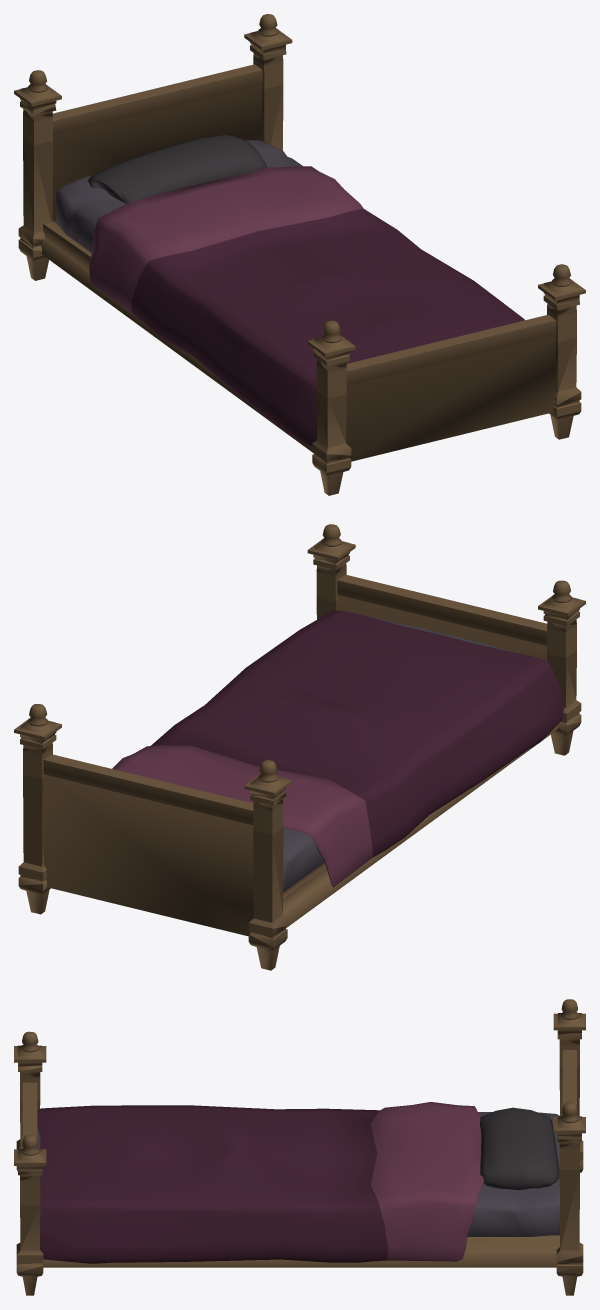
File: bed-twin.glb
The picture shows the model from 3 angles, top to bottom: view 1: azimuth 30°, elevation 25°; view 2: azimuth 150°, elevation 25°; view 3: azimuth 270°, elevation 25°; orthographic projection. The views are drawn at different scales.
Parts seen in each view (by area): view 1: bed-twin; view 2: bed-twin; view 3: bed-twin.
Boxes of the visible parts, bbox=[...] form: bed-twin: bbox=[14, 14, 585, 495]; bed-twin: bbox=[14, 524, 585, 970]; bed-twin: bbox=[14, 999, 585, 1295].
Size of the model in its own units: 0.9679 by 0.7316 by 2.
